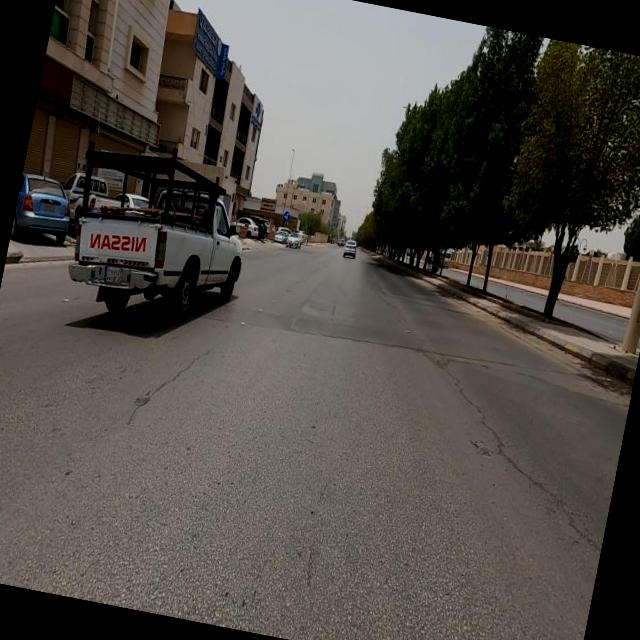debris: (27, 58, 215, 186)
